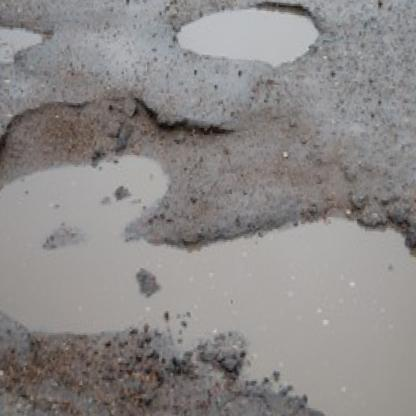pothole: (0, 83, 416, 416), (172, 0, 321, 71)
